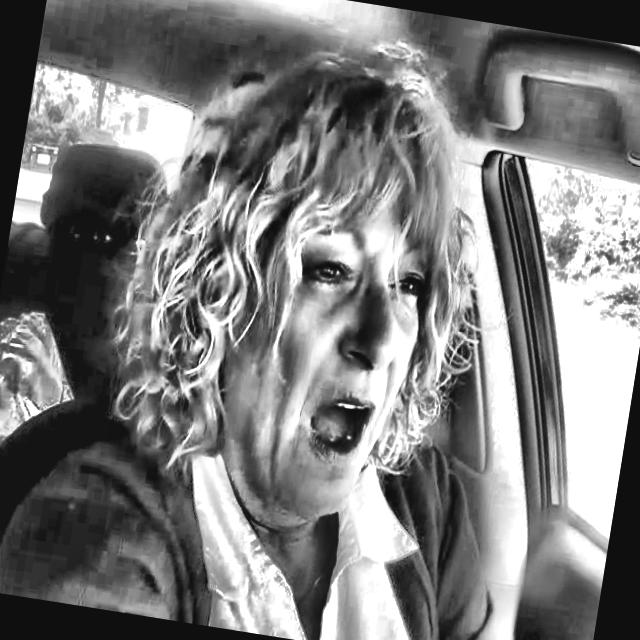open_eyes: (283, 243, 359, 294), (383, 258, 435, 318)
open_mouth: (294, 375, 394, 476)
